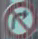Don't turn right: (3, 1, 36, 38)
